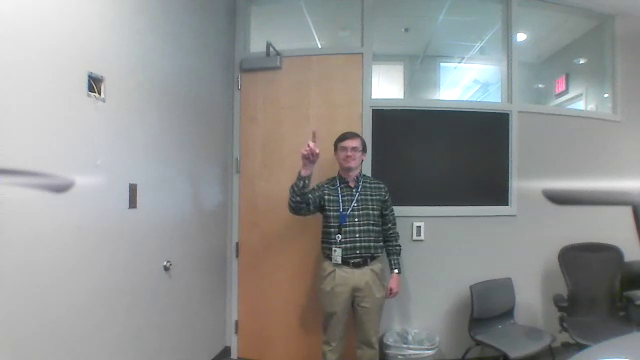up: (294, 122, 324, 166)
